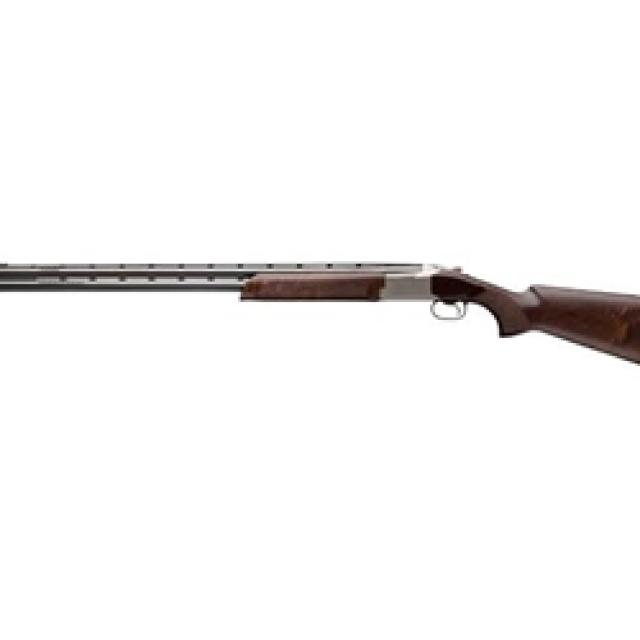ShotGun: (0, 264, 640, 366)
